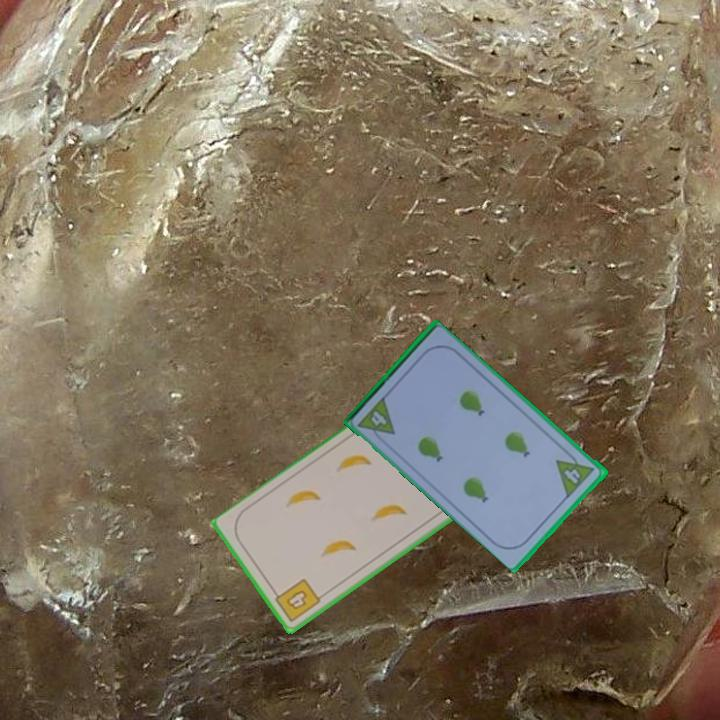4b: (269, 575, 324, 625)
4p: (354, 393, 399, 447), (553, 447, 598, 500)
